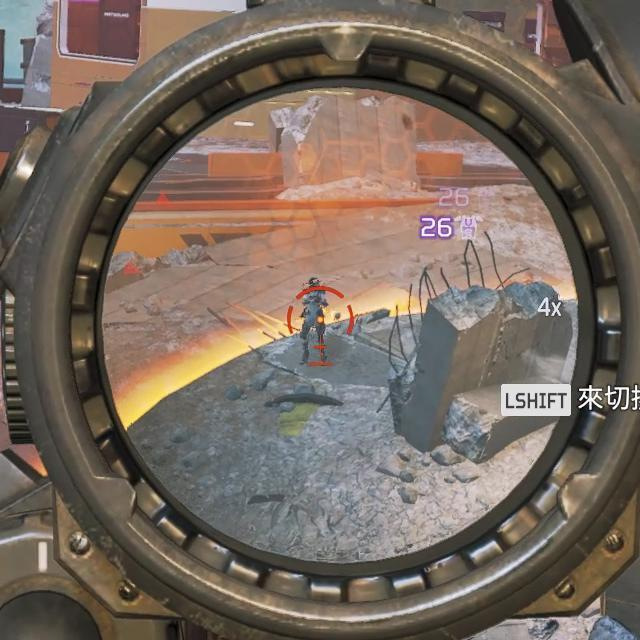avatar: (296, 275, 330, 368)
